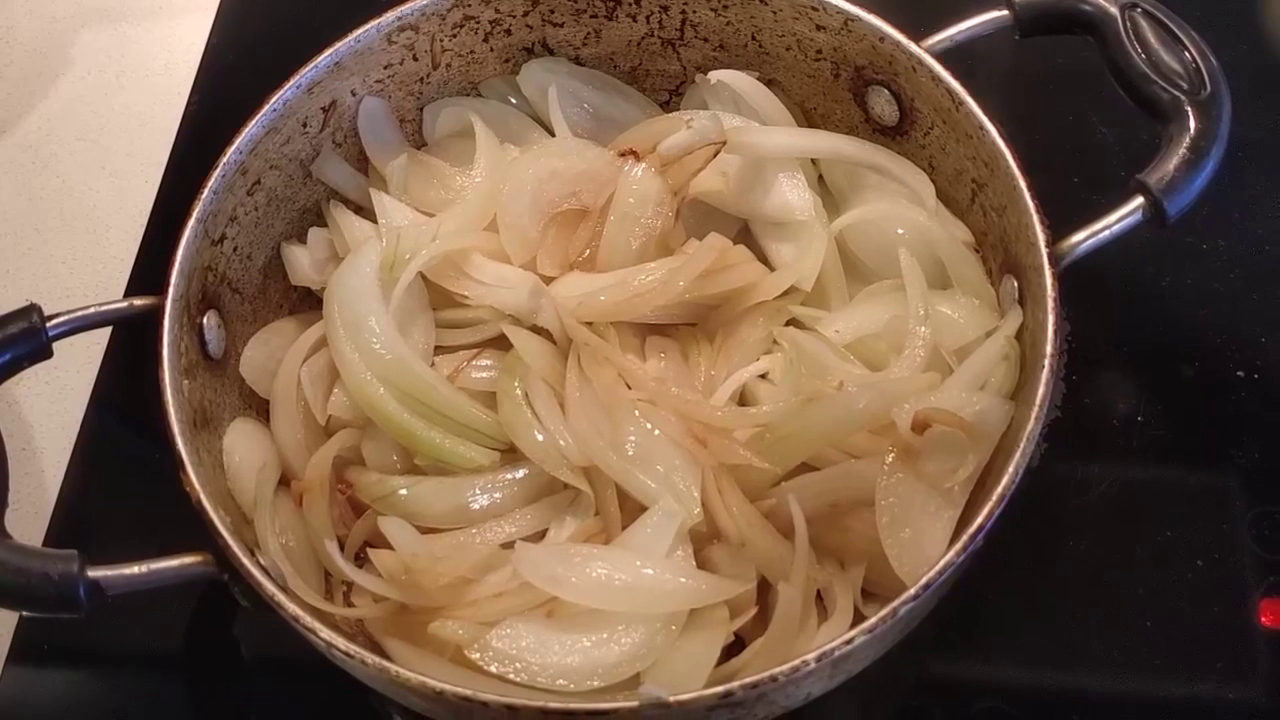Raw: (314, 177, 867, 651)
